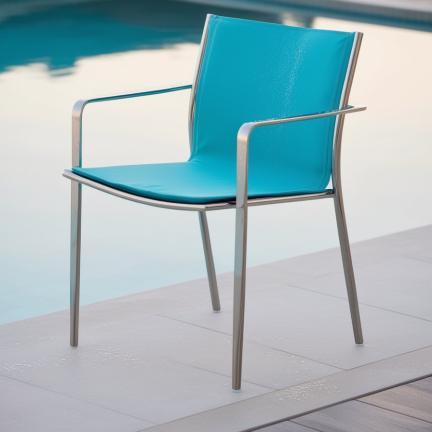empty chair: (63, 14, 365, 390)
